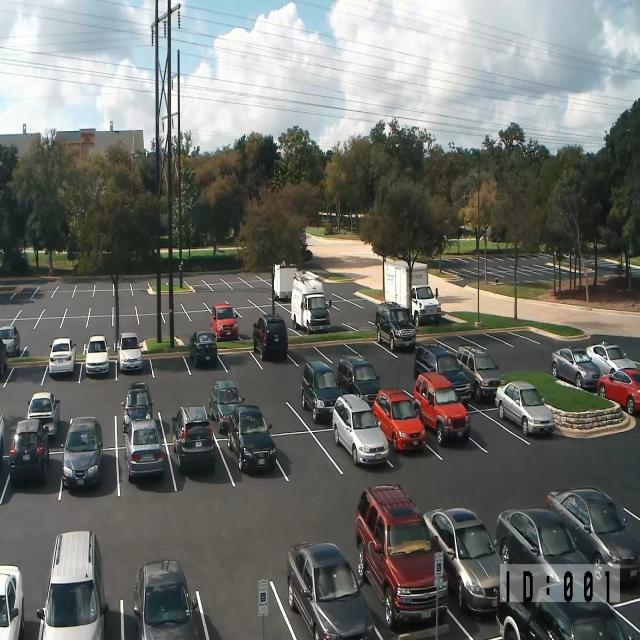car: (355, 483, 449, 630), (494, 506, 605, 604), (546, 486, 640, 584), (496, 576, 639, 640), (422, 506, 503, 616), (286, 540, 374, 640), (36, 530, 109, 639), (133, 558, 210, 640), (413, 372, 471, 446), (332, 393, 389, 466), (527, 598, 626, 640), (413, 343, 472, 407), (494, 381, 556, 436), (373, 388, 426, 452), (227, 404, 276, 472), (60, 416, 103, 489), (171, 405, 215, 474), (456, 344, 504, 403), (9, 418, 49, 485), (301, 359, 342, 424), (123, 417, 164, 481), (337, 354, 382, 408), (551, 346, 603, 391), (597, 368, 640, 416), (375, 301, 416, 351), (208, 379, 245, 433), (0, 564, 24, 639), (586, 340, 637, 375), (121, 381, 154, 434), (252, 313, 288, 361), (26, 391, 60, 439), (411, 284, 442, 327), (610, 596, 640, 640), (115, 332, 144, 373), (83, 335, 110, 376), (210, 303, 238, 342), (189, 329, 217, 367), (49, 337, 76, 376), (0, 410, 15, 468), (0, 324, 20, 356), (0, 338, 7, 376), (0, 409, 4, 467), (299, 227, 307, 252)
